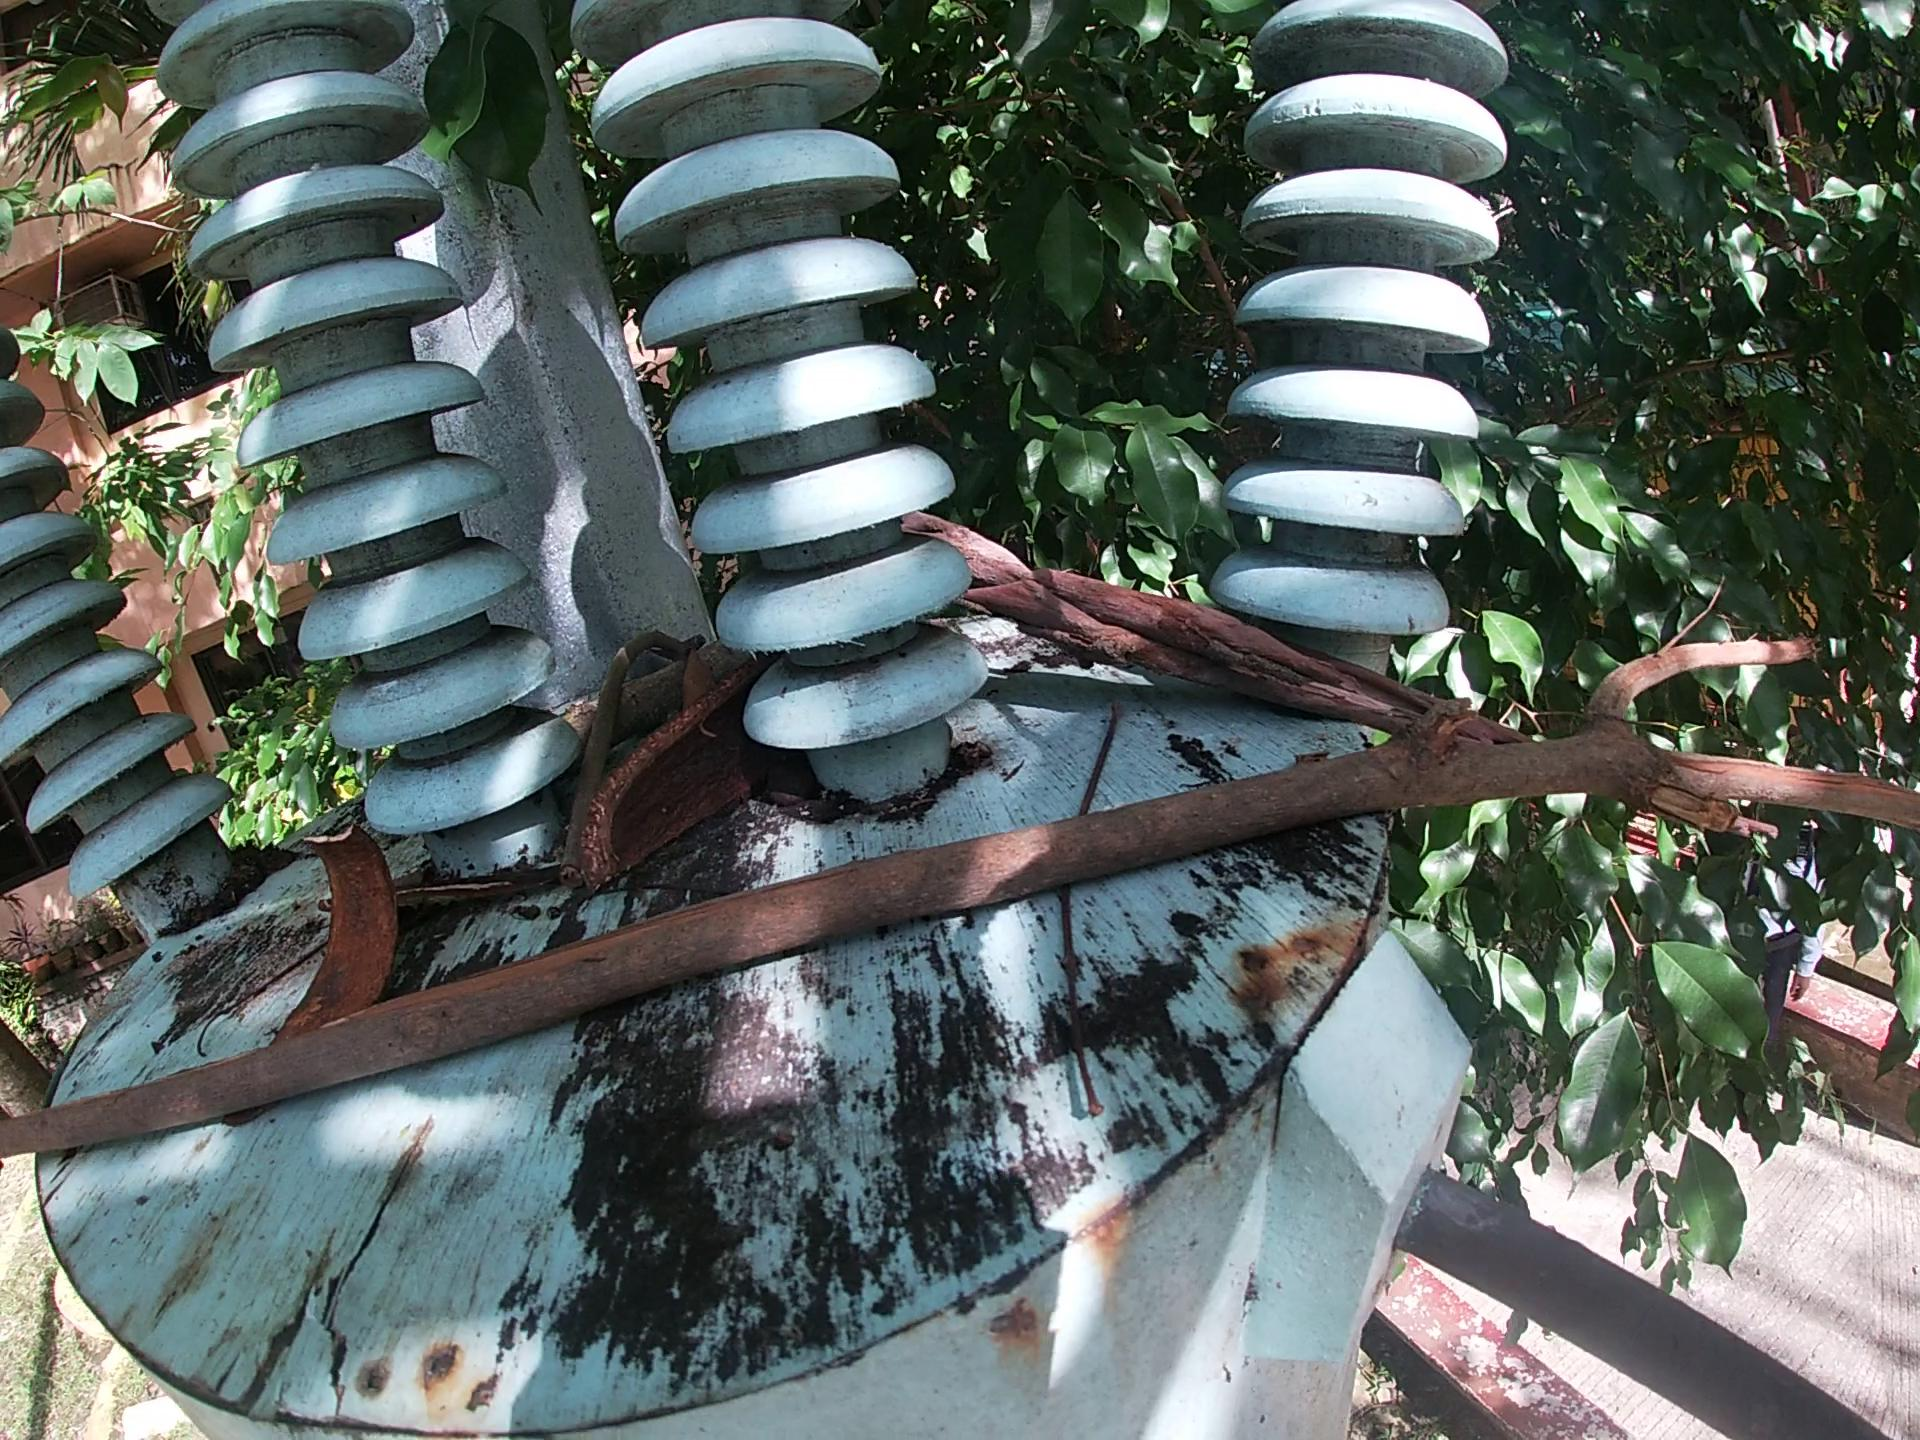leaf: (676, 638, 745, 718)
mahogany fruit: (576, 667, 782, 914), (280, 809, 426, 1032)
tree branch: (5, 597, 1920, 1215), (903, 511, 1528, 737), (565, 617, 730, 871), (1054, 877, 1123, 1141), (584, 629, 748, 734), (169, 942, 305, 1059), (402, 858, 565, 911), (1060, 690, 1126, 812), (559, 879, 754, 900)
